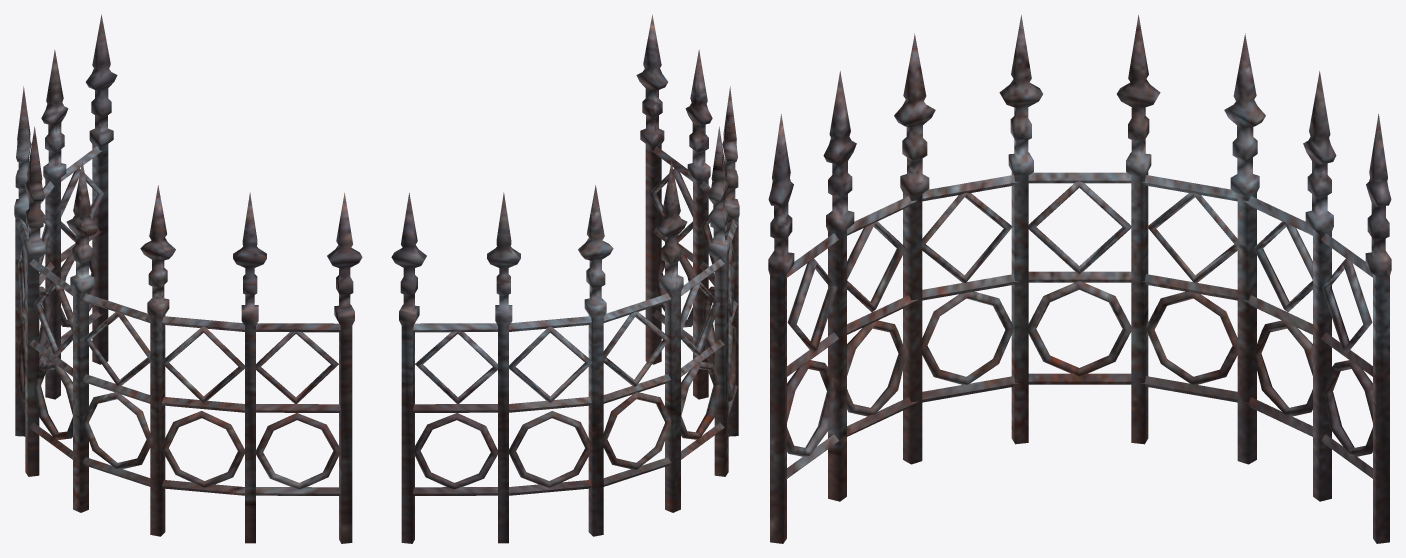
File: Cerca.fbx
The picture shows the model from 3 angles, left to right: view 1: azimuth 30°, elevation 25°; view 2: azimuth 150°, elevation 25°; view 3: azimuth 270°, elevation 25°; orthographic projection. The views are drawn at different scales.
Visible parts, largest first — view 1: Cerca; view 2: Cerca; view 3: Cerca.
Boxes of the visible parts, x1,y1,x2,y2 form: Cerca: (14,14,362,543); Cerca: (391,14,739,543); Cerca: (768,15,1391,543).
Bounding box in the file's own units: 0.4744 × 0.8355 × 1.1.
